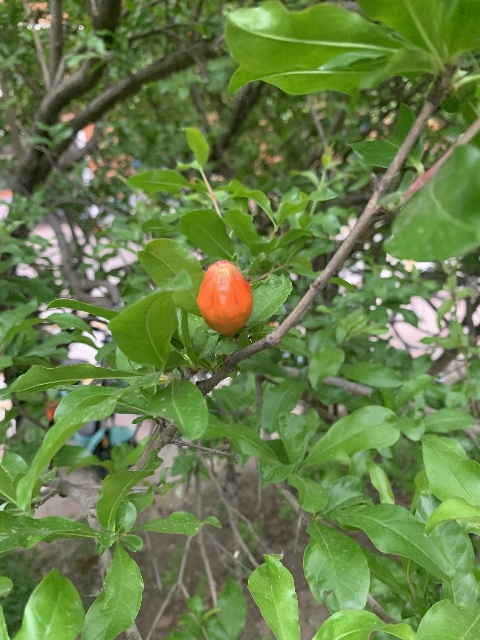bud: (197, 260, 252, 336)
